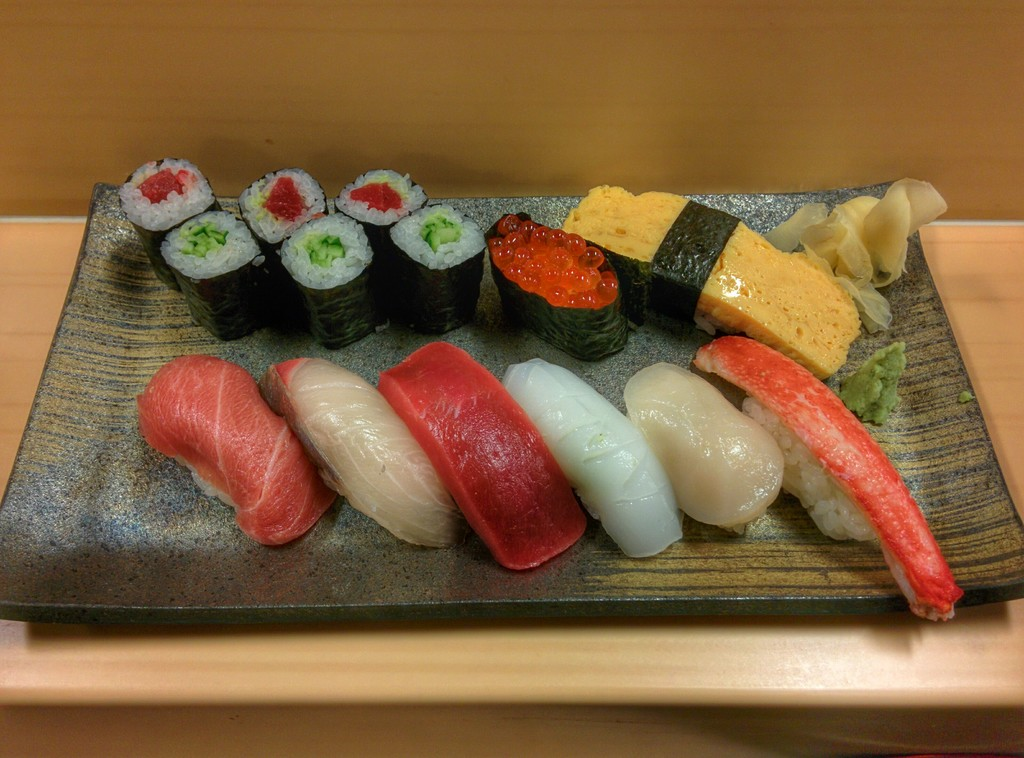sushi: (90, 196, 961, 598)
